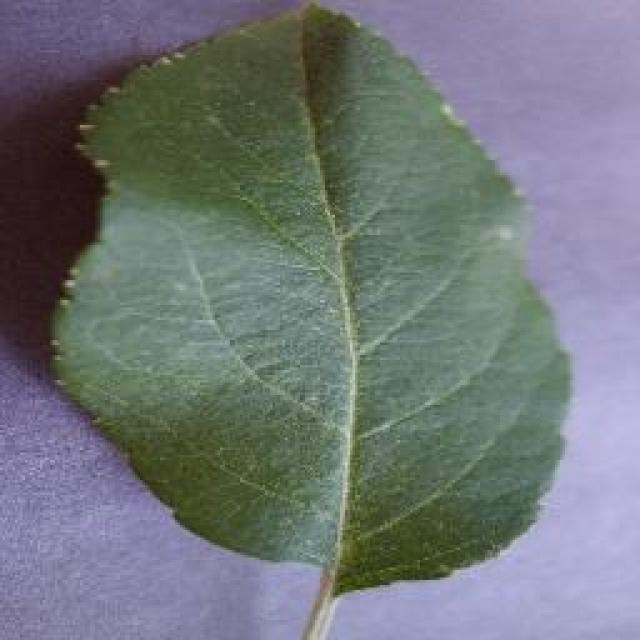Apple___healthy: (48, 1, 574, 600)
